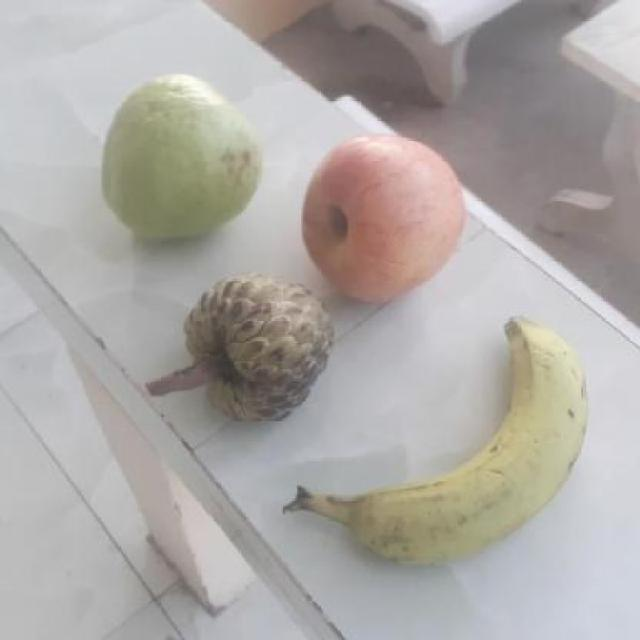apple: (295, 129, 467, 297)
banana: (286, 312, 585, 566)
guava: (98, 80, 259, 235)
sugar apple: (168, 269, 330, 423)
